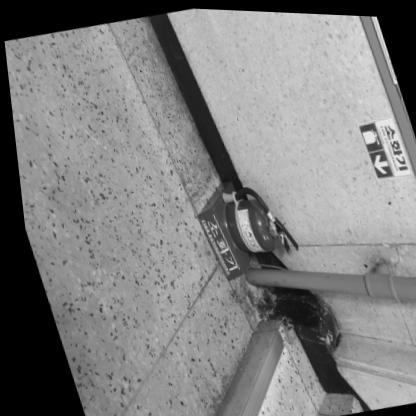FE: (182, 166, 301, 285)
